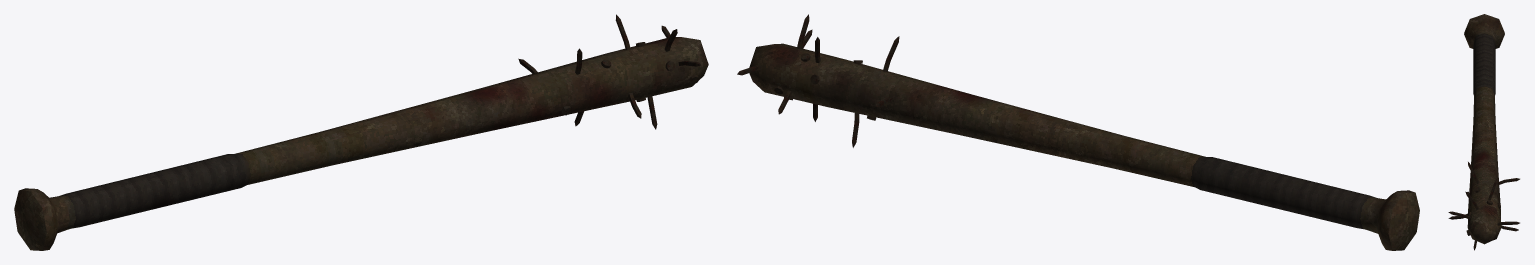
Rendered from baseball_bat_mx_2.glb.
3 views of the same model, side by side, from view 1: azimuth 30°, elevation 25°; view 2: azimuth 150°, elevation 25°; view 3: azimuth 270°, elevation 25° (orthographic). The views are drawn at different scales.
Visible parts, largest first — view 1: baseball_bat_mx_2; view 2: baseball_bat_mx_2; view 3: baseball_bat_mx_2.
Boxes of the visible parts, <box> form: baseball_bat_mx_2: <box>14,14,708,250</box>; baseball_bat_mx_2: <box>737,14,1419,250</box>; baseball_bat_mx_2: <box>1448,14,1519,250</box>.
Size of the model in its own units: 1.24 by 0.1879 by 0.1866.
1 material, 1 textured.
